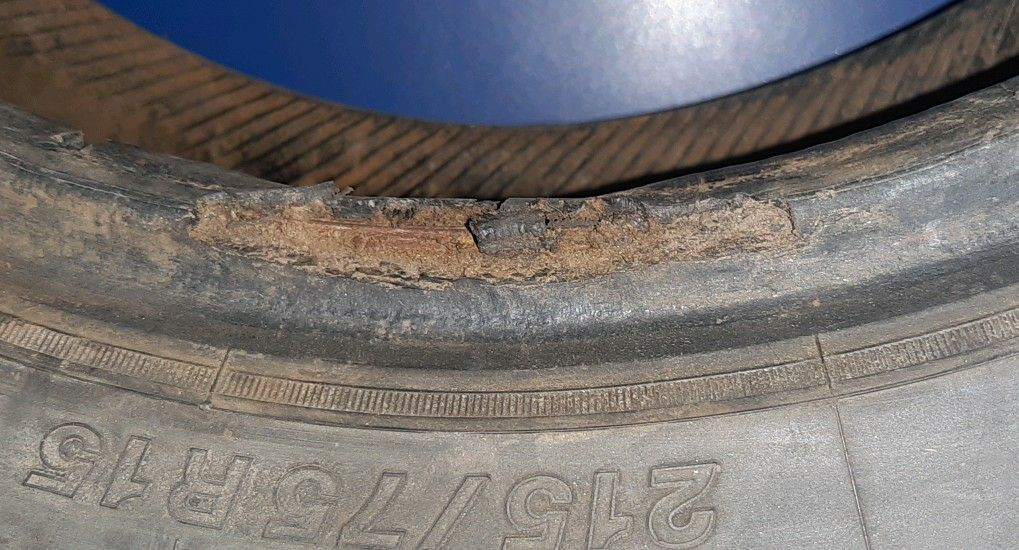bead_damage: (16, 108, 817, 301)
